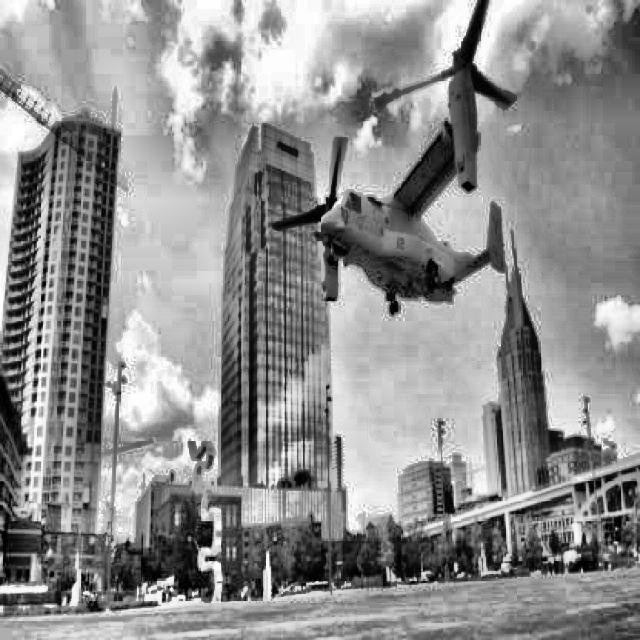V22: (272, 1, 514, 318)
